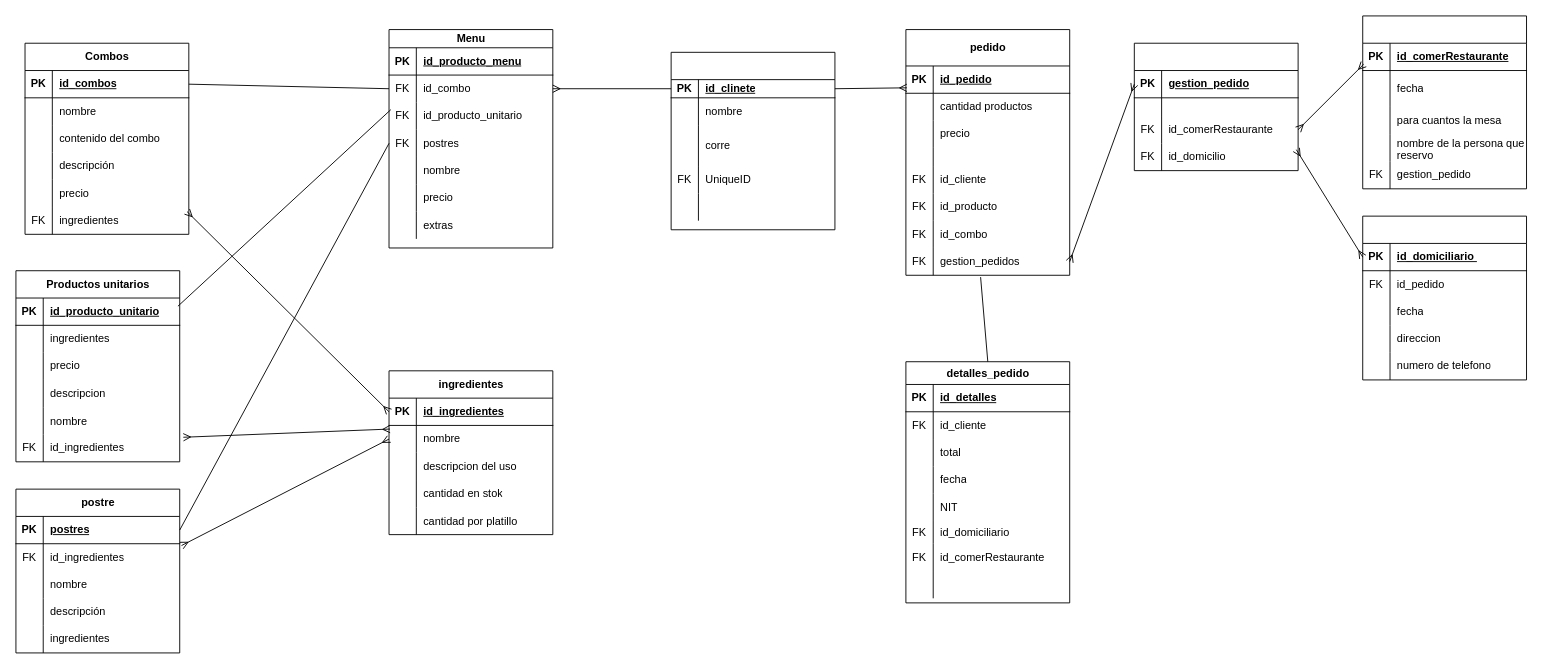
Some shapes in this 1542 by 669 pixel diagram are drawn without their labels. The shapes that lost their labels are listed below. From the top down, each one's box as (x1, y1, x2, y2) in pixels, then its label:
(1133, 42, 1298, 171): gestion de pedidos
(1362, 15, 1527, 189): comer en restaurante
(670, 51, 835, 230): Cliente
(1362, 215, 1527, 380): para llevar
